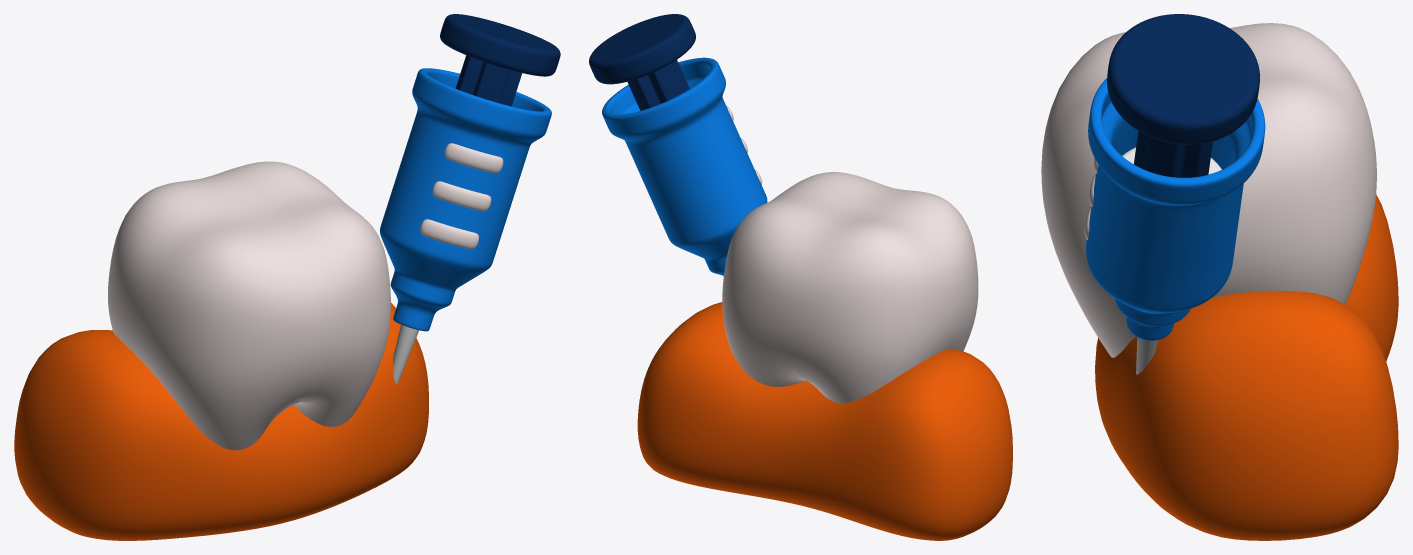
Rendered from Teeth Anesthesia.glb.
3 views of the same model, side by side, from view 1: azimuth 30°, elevation 25°; view 2: azimuth 150°, elevation 25°; view 3: azimuth 270°, elevation 25° (orthographic). The views are drawn at different scales.
Parts seen in each view (by area): view 1: Cube.055, Cube.054, Cylinder.018, Cylinder.019, Cylinder.022, Cube.053, Cylinder.023; view 2: Cube.054, Cube.055, Cylinder.018, Cylinder.019, Cube.053; view 3: Cube.054, Cube.055, Cylinder.018, Cylinder.019, Cube.053, Cylinder.023.
Part boxes in pixels (left/top/right/bottom): Cube.055: left=108, top=161, right=390, bottom=450; Cube.054: left=14, top=303, right=428, bottom=540; Cylinder.018: left=380, top=68, right=551, bottom=331; Cylinder.019: left=440, top=14, right=560, bottom=76; Cylinder.022: left=420, top=143, right=503, bottom=249; Cube.053: left=455, top=55, right=522, bottom=106; Cylinder.023: left=393, top=324, right=418, bottom=383; Cube.054: left=637, top=302, right=1012, bottom=540; Cube.055: left=722, top=172, right=978, bottom=403; Cylinder.018: left=602, top=57, right=767, bottom=275; Cylinder.019: left=589, top=14, right=695, bottom=84; Cube.053: left=627, top=60, right=689, bottom=110; Cube.054: left=1095, top=195, right=1398, bottom=540; Cube.055: left=1041, top=23, right=1376, bottom=357; Cylinder.018: left=1086, top=78, right=1265, bottom=340; Cylinder.019: left=1107, top=14, right=1259, bottom=144; Cube.053: left=1134, top=131, right=1212, bottom=177; Cylinder.023: left=1136, top=337, right=1158, bottom=374.
Bounding box in the file's own units: 5.44 × 4.85 × 2.8.
